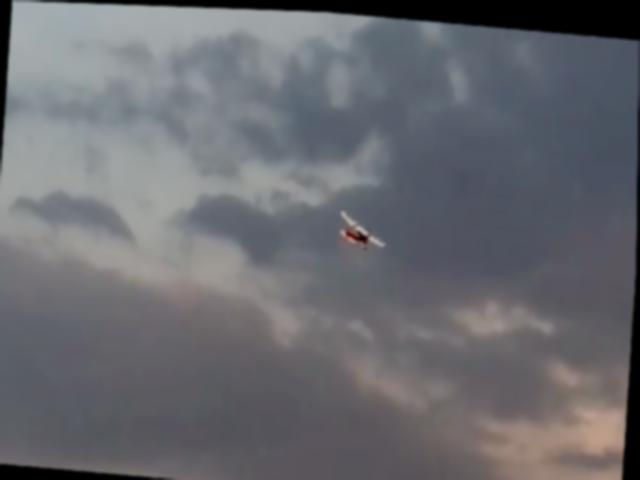plane: (338, 205, 389, 250)
